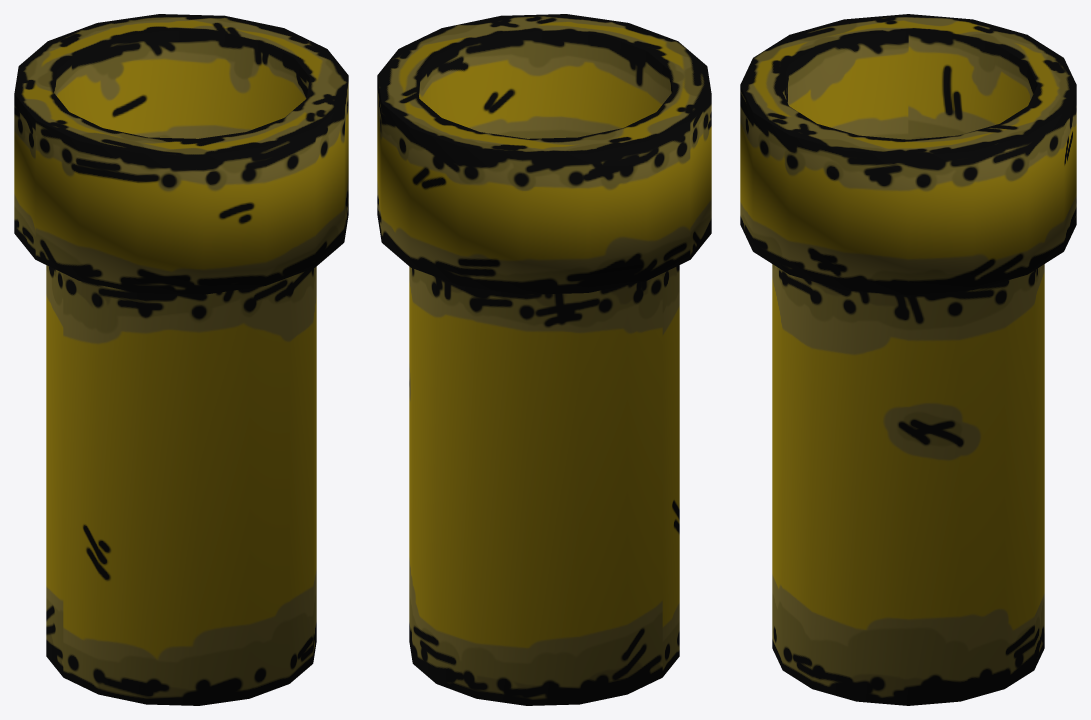
File: Pipe.fbx
3 renders of one model, left to right at view 1: azimuth 30°, elevation 25°; view 2: azimuth 150°, elevation 25°; view 3: azimuth 270°, elevation 25°, orthographic.
Parts seen in each view (by area): view 1: Cylinder; view 2: Cylinder; view 3: Cylinder.
Boxes of the visible parts, x1,y1,x2,y2 form: Cylinder: (14,14,348,705); Cylinder: (377,14,711,705); Cylinder: (740,14,1076,705).
Size of the model in its own units: 81.45 by 150 by 81.45.
